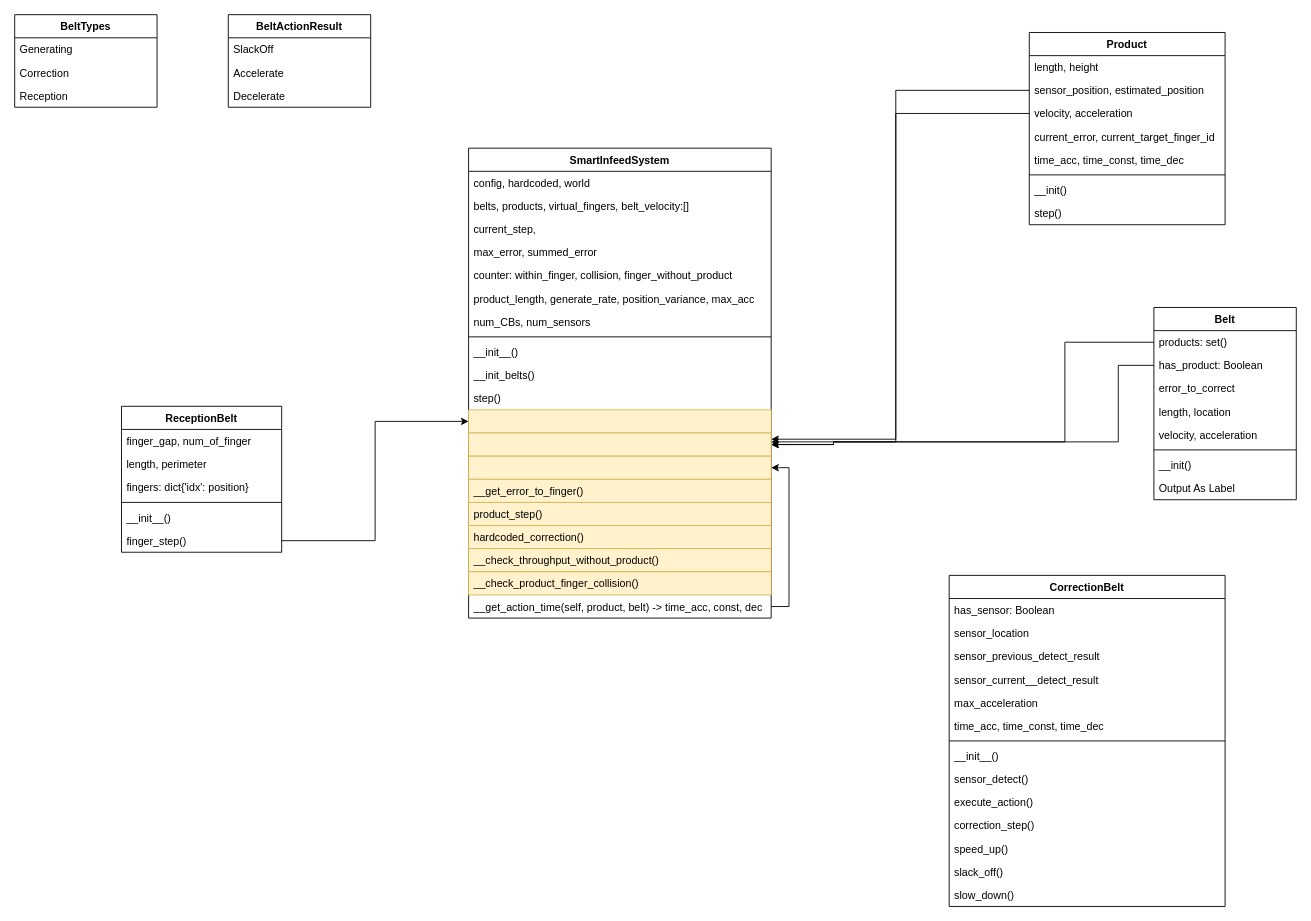
The diagram is 1311 pixels wide and 921 high, and some of its shapes have lost their labels. The centre of each missing label's shape, as x and y in pixels:
"move_fingers()" goes at point (619, 421).
"single_correction_algorithm()" goes at point (619, 467).
"update_product_on_belts()" goes at point (619, 444).
